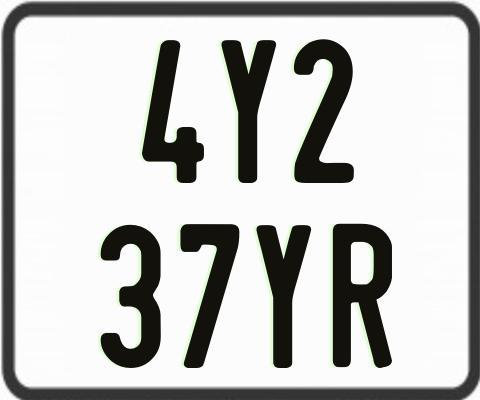2: (294, 37, 359, 182)
3: (101, 222, 167, 366)
4: (142, 38, 206, 186)
7: (178, 223, 239, 368)
R: (330, 223, 392, 368)
Y: (220, 39, 278, 184), (253, 222, 311, 367)
